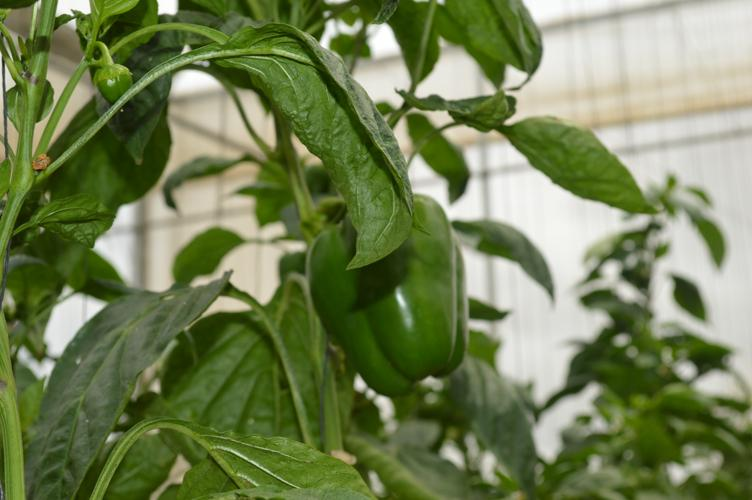BellPepper: (306, 191, 469, 396)
